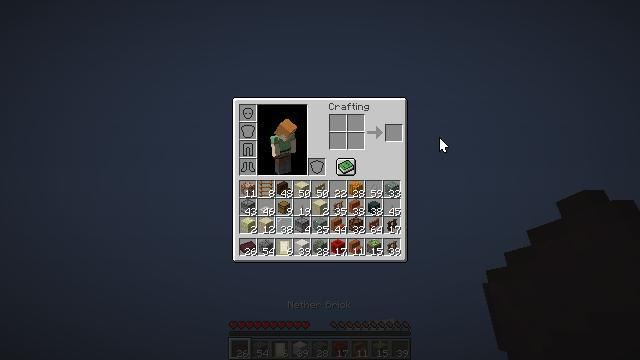cursor: (439, 137, 449, 153)
